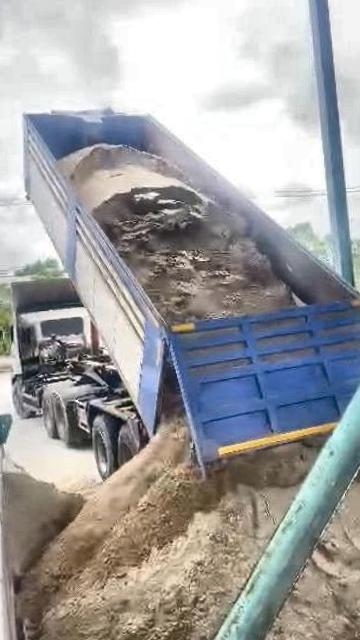sand: (19, 426, 316, 640), (60, 144, 294, 323), (255, 441, 360, 640), (2, 460, 83, 605), (159, 359, 185, 425), (65, 478, 100, 498), (16, 617, 37, 640)
